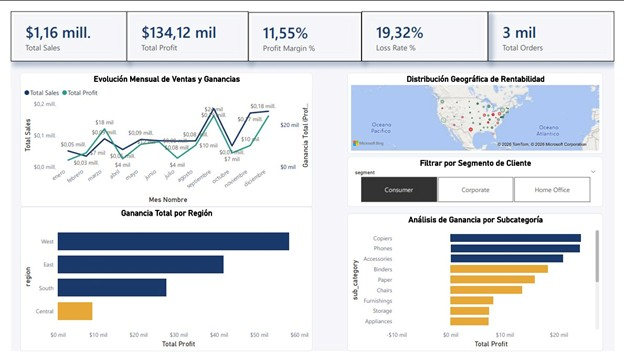

Layout of this report page (visuals, bound fields, positions):
{"tool":"powerbi","page":{"name":"Dashboard","canvas":[1280,720],"ordinal":0},"visuals":[{"type":"cardVisual","fields":{"Data":["Retail Sales.Total Sales"]},"box":[0,0,246,106],"z":0},{"type":"cardVisual","fields":{"Data":["Retail Sales.Total Profit"]},"box":[246,0,258,106],"z":1},{"type":"cardVisual","fields":{"Data":["Retail Sales.Profit Margin %"]},"box":[504,2,240,104],"z":2},{"type":"cardVisual","fields":{"Data":["Retail Sales.Total Orders"]},"box":[1012,0,268,106],"z":3},{"type":"cardVisual","fields":{"Data":["Retail Sales.Loss Rate %"]},"box":[744,0,268,106],"z":4},{"type":"lineChart","title":"Evolución Mensual de Ventas y Ganancias","fields":{"Category":["Calendario.Año","Calendario.Mes Nombre"],"Y":["Retail Sales.Total Sales"],"Y2":["Retail Sales.Total Profit"]},"box":[20,130,620,284],"z":5},{"type":"map","title":"Distribución Geográfica de Rentabilidad","fields":{"Category":["Retail Sales.state"],"Size":["Retail Sales.Total Sales"]},"box":[714,130,542,172],"z":6},{"type":"slicer","title":"Filtrar por Segmento de Cliente","fields":{"Values":["Retail Sales.segment"]},"box":[714,308,542,106],"z":7},{"type":"clusteredBarChart","title":"Ganancia Total por Región","fields":{"Category":["Retail Sales.region"],"Y":["Retail Sales.Total Profit"]},"box":[20,414,620,306],"z":8},{"type":"clusteredBarChart","title":"Análisis de Ganancia por Subcategoría","fields":{"Category":["Retail Sales.sub_category"],"Y":["Retail Sales.Total Profit"]},"box":[714,428,542,292],"z":9}]}

Visuals, with their boxes in screenshot pixels (x1, y1, x2, y2), scaled from the page's 1280x720 canvas onto the 624x361 screenshot:
cardVisual - Retail Sales.Total Sales: 0/0/120/53
cardVisual - Retail Sales.Total Profit: 120/0/246/53
cardVisual - Retail Sales.Profit Margin %: 246/1/363/53
cardVisual - Retail Sales.Total Orders: 493/0/623/53
cardVisual - Retail Sales.Loss Rate %: 363/0/493/53
"Evolución Mensual de Ventas y Ganancias" lineChart: 10/65/312/208
"Distribución Geográfica de Rentabilidad" map: 348/65/612/151
"Filtrar por Segmento de Cliente" slicer: 348/154/612/208
"Ganancia Total por Región" clusteredBarChart: 10/208/312/360
"Análisis de Ganancia por Subcategoría" clusteredBarChart: 348/215/612/360
